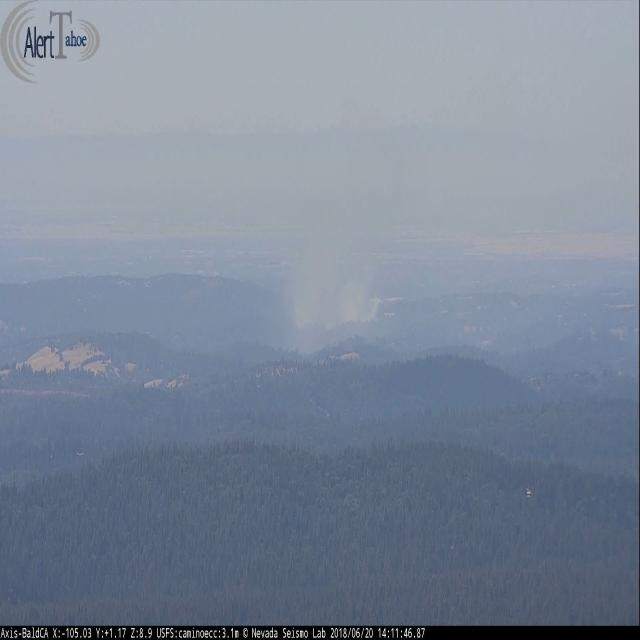smoke: (295, 261, 379, 323)
